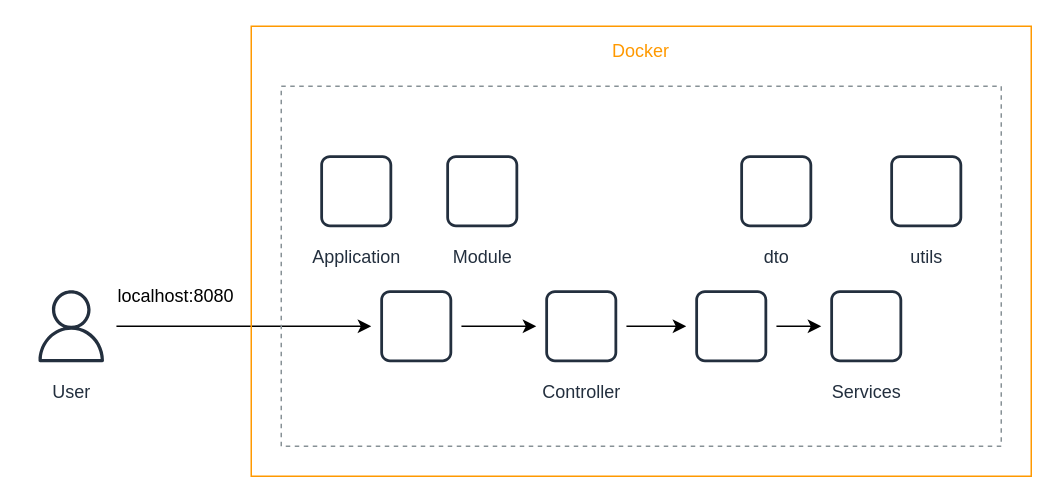
This 1058x503 diagram has some shape labels left out. Each missing label, with the box of its shape:
JVM 11: (280, 85, 1001, 446)
Processor: (685, 280, 776, 371)
Server: (370, 280, 461, 371)
